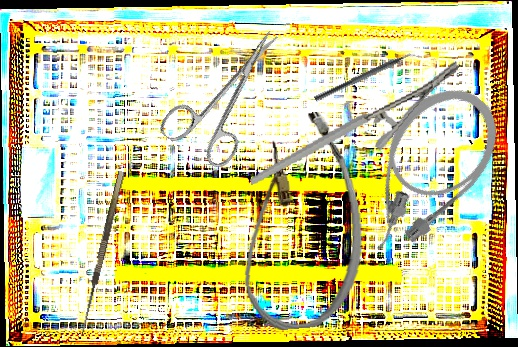Cannula: (329, 69, 518, 271), (229, 109, 371, 333)
Chopper: (313, 46, 423, 109)
Hook Surgical: (77, 170, 135, 339)
Iris Scissors: (156, 11, 307, 177)
Needle Holder: (236, 61, 472, 185)
